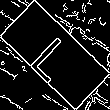L_NE: (27, 26, 83, 84)
